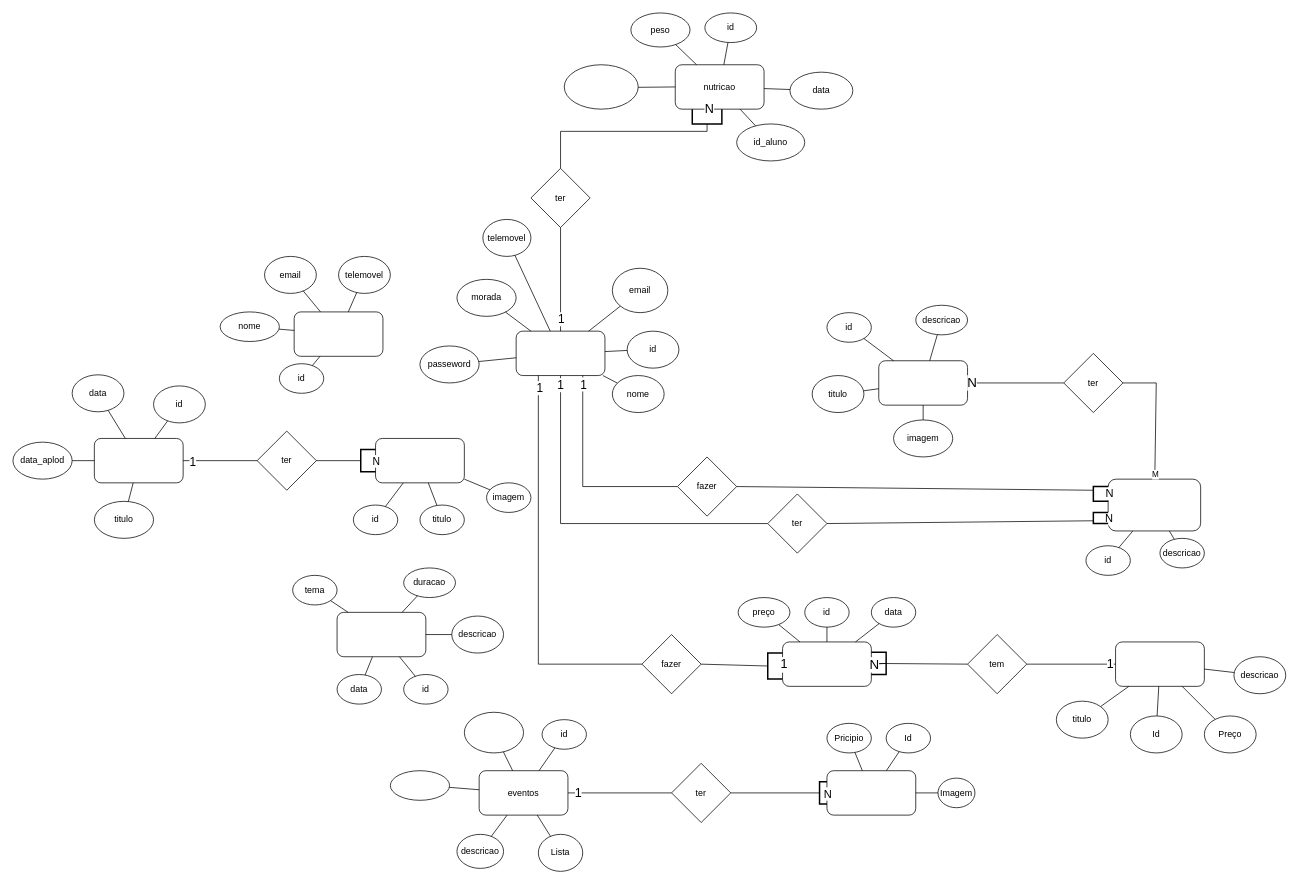
Some shapes in this 1299 by 884 pixel diagram are drawn without their labels. The box of each missing label's shape, as (x1, y1, x2, y2) in pixels:
album: (94, 438, 183, 483)
contactos: (293, 311, 383, 356)
data_fim: (390, 770, 450, 800)
data_inicio: (464, 712, 524, 753)
fotos: (375, 438, 464, 483)
id_nutricionista: (564, 64, 638, 109)
imagem_evento: (826, 770, 916, 815)
inscricao: (782, 641, 871, 686)
modalidades: (878, 360, 968, 405)
Plano_inicial: (1115, 641, 1204, 686)
planos_treino: (1107, 478, 1201, 531)
utilizador: (515, 330, 605, 376)
workshop: (336, 612, 426, 657)
